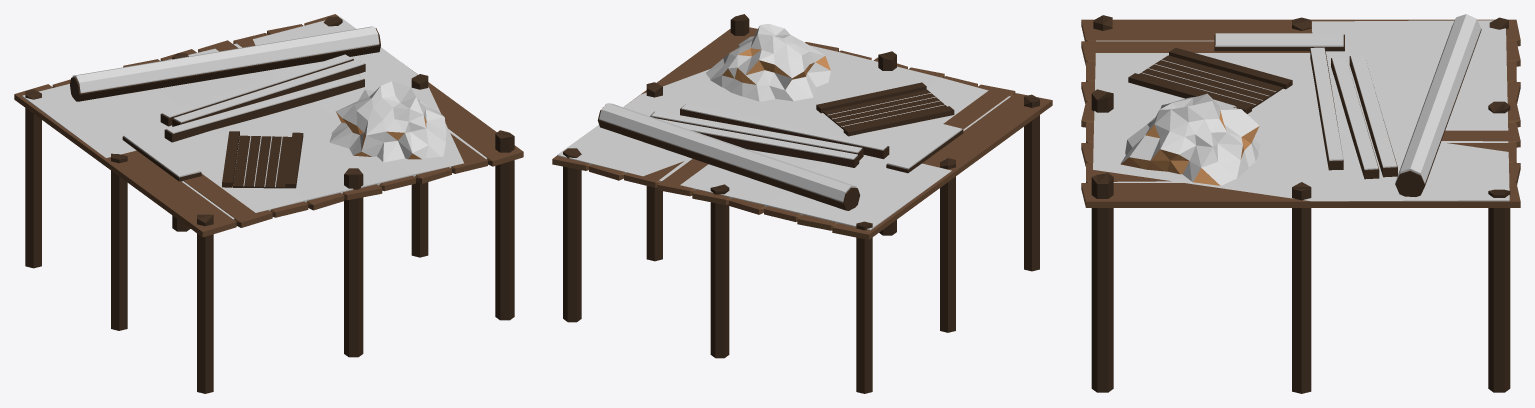
The model's file is fishery_house_build_snow_mat.fbx.
The picture shows the model from 3 angles, left to right: view 1: azimuth 30°, elevation 25°; view 2: azimuth 150°, elevation 25°; view 3: azimuth 270°, elevation 25°; orthographic projection. The views are drawn at different scales.
Visible parts, largest first — view 1: fishery_house_build_snow_mat; view 2: fishery_house_build_snow_mat; view 3: fishery_house_build_snow_mat.
Part boxes in pixels (x1,y1,x2,y2): fishery_house_build_snow_mat: (14,14,523,393); fishery_house_build_snow_mat: (552,14,1052,393); fishery_house_build_snow_mat: (1081,14,1520,393).
Size of the model in its own units: 330 by 212 by 337.
